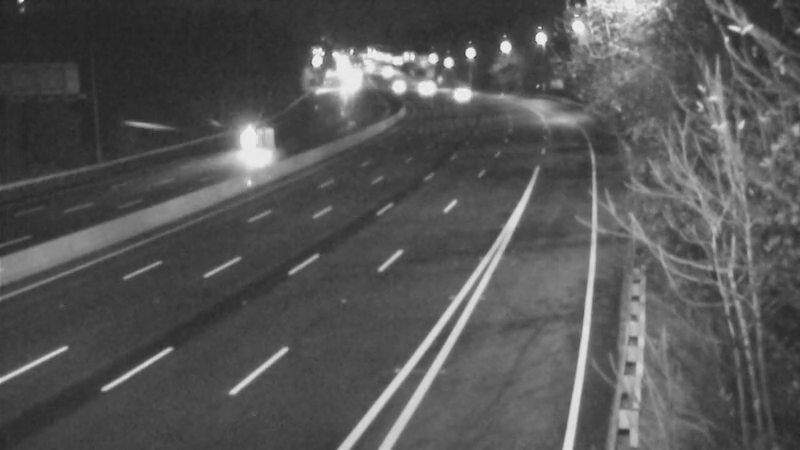vehicle: (372, 60, 422, 110), (400, 59, 450, 109), (433, 69, 483, 119), (226, 116, 276, 166)
